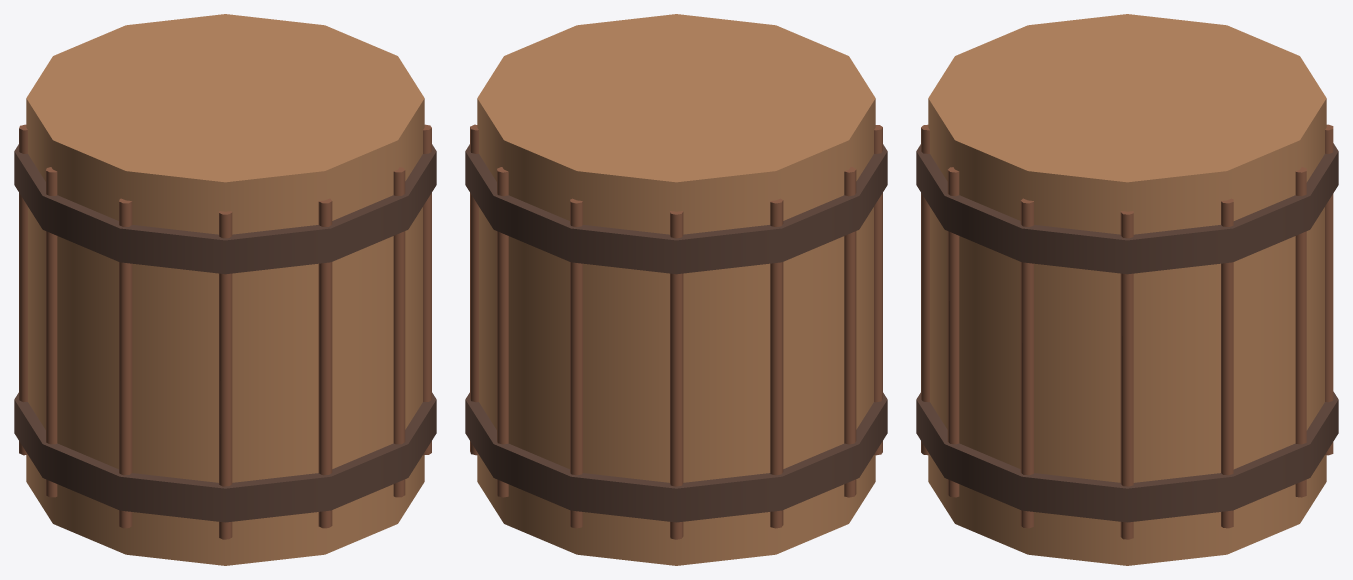
The model's file is barrel.glb.
The picture shows the model from 3 angles, left to right: view 1: azimuth 30°, elevation 25°; view 2: azimuth 150°, elevation 25°; view 3: azimuth 270°, elevation 25°; orthographic projection.
Parts seen in each view (by area): view 1: surface_#be8960, surface_#62473b, surface_#936047; view 2: surface_#be8960, surface_#62473b, surface_#936047; view 3: surface_#be8960, surface_#62473b, surface_#936047.
Part boxes in pixels (box(x1,y1,x2,y2)): surface_#be8960: box(26, 14, 424, 565); surface_#62473b: box(14, 144, 436, 522); surface_#936047: box(19, 124, 431, 539); surface_#be8960: box(477, 14, 875, 565); surface_#62473b: box(465, 144, 887, 522); surface_#936047: box(470, 124, 882, 539); surface_#be8960: box(928, 14, 1326, 565); surface_#62473b: box(916, 143, 1338, 522); surface_#936047: box(921, 124, 1333, 539).
Size of the model in its own units: 0.848 by 0.85 by 0.848.
